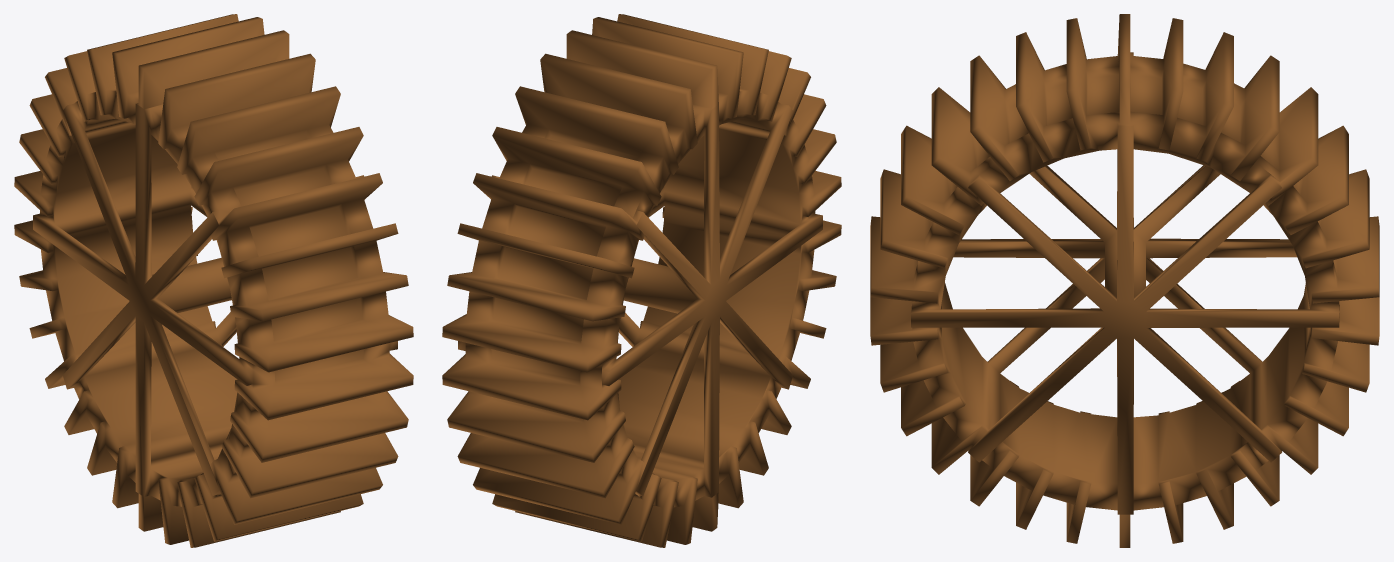
The model's file is wheel.glb.
3 renders of one model, left to right at view 1: azimuth 30°, elevation 25°; view 2: azimuth 150°, elevation 25°; view 3: azimuth 270°, elevation 25°, orthographic.
Visible parts, largest first — view 1: Water wheel_2; view 2: Water wheel_2; view 3: Water wheel_2.
Boxes of the visible parts, <box> form: Water wheel_2: <box>14,14,413,547</box>; Water wheel_2: <box>442,14,841,547</box>; Water wheel_2: <box>870,14,1379,547</box>.
Bounding box in the file's own units: 1.33 × 3.87 × 3.86.
1 material, 1 textured.
